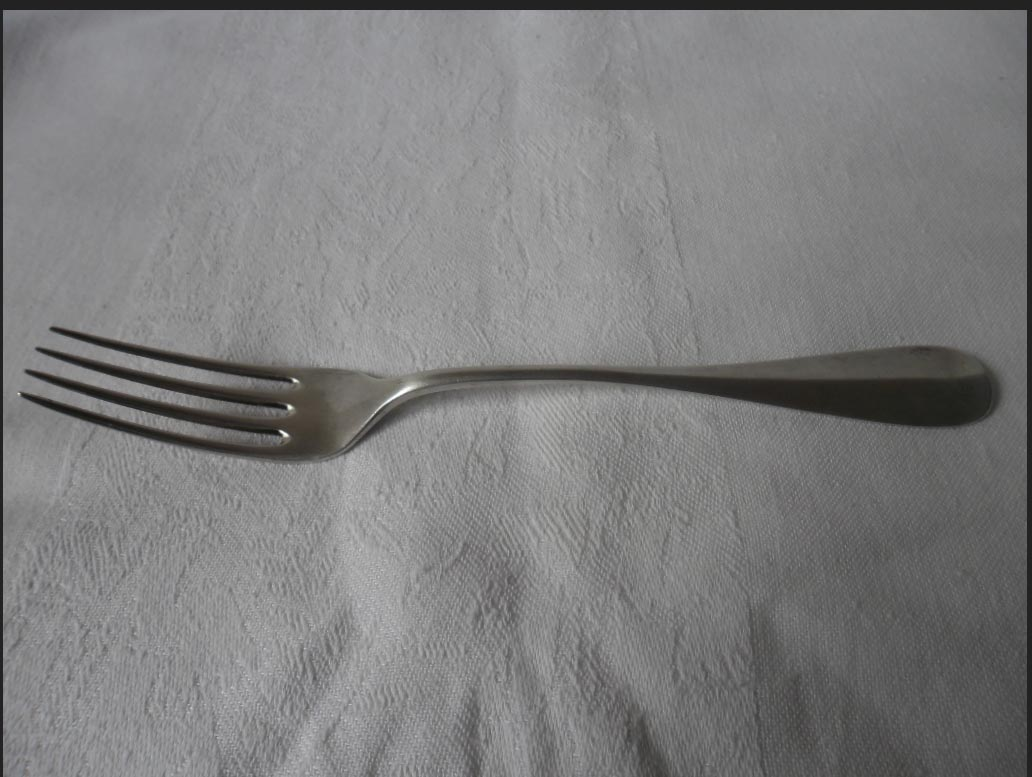Widelec: (14, 317, 409, 475)
